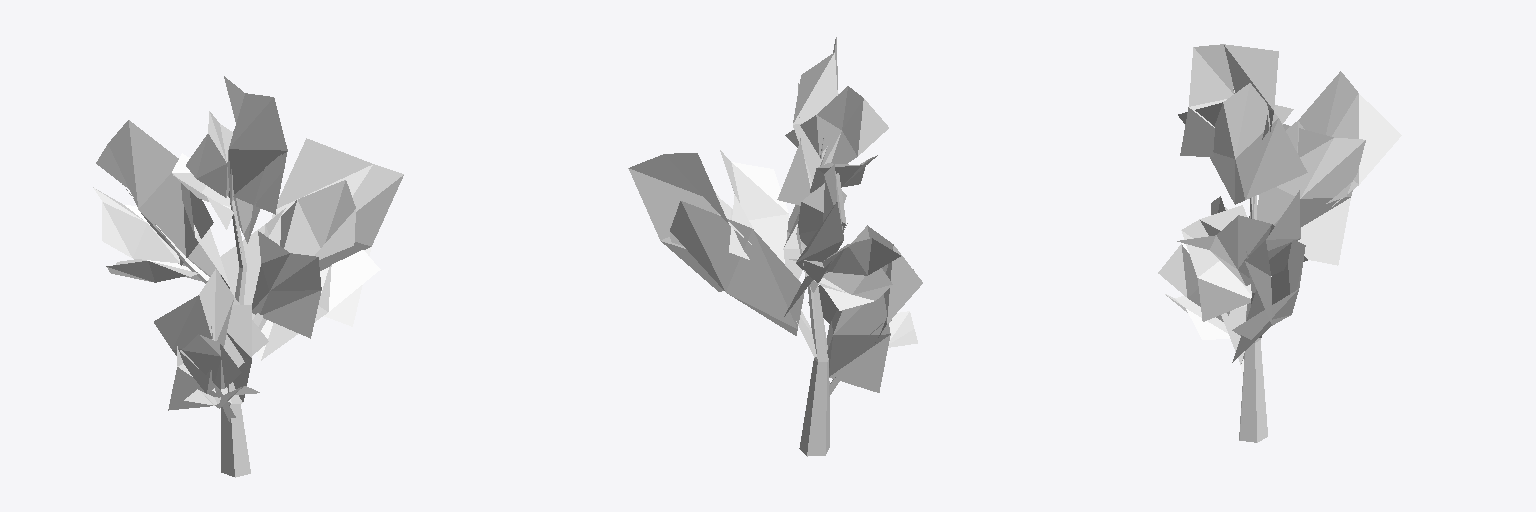
The model's file is Tree2.obj.
The picture shows the model from 3 angles: view 1: azimuth 30°, elevation 25°; view 2: azimuth 150°, elevation 25°; view 3: azimuth 270°, elevation 25°; orthographic projection.
Parts seen in each view (by area): view 1: Tree_2; view 2: Tree_2; view 3: Tree_2.
Boxes of the visible parts, x1=… form: Tree_2: x1=93, y1=76, x2=403, y2=477; Tree_2: x1=628, y1=37, x2=922, y2=456; Tree_2: x1=1158, y1=44, x2=1401, y2=442.
Size of the model in its own units: 3.39 by 4.43 by 2.49.